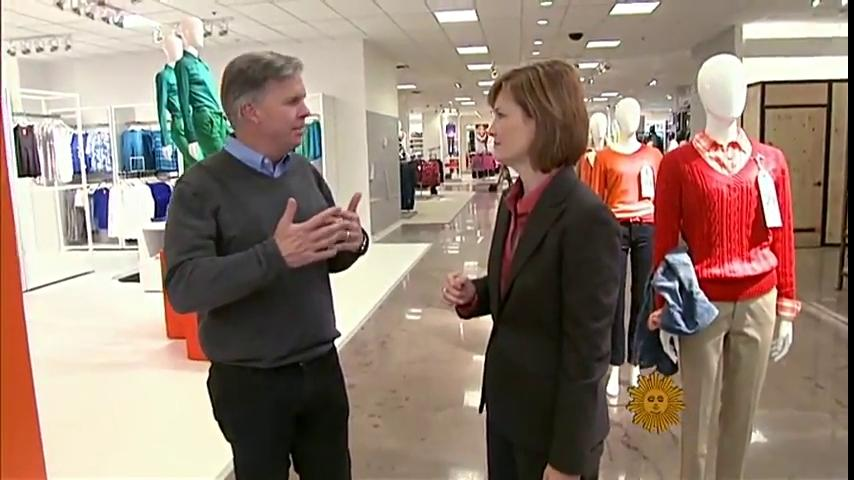victim: (158, 48, 371, 478), (439, 57, 626, 480)
